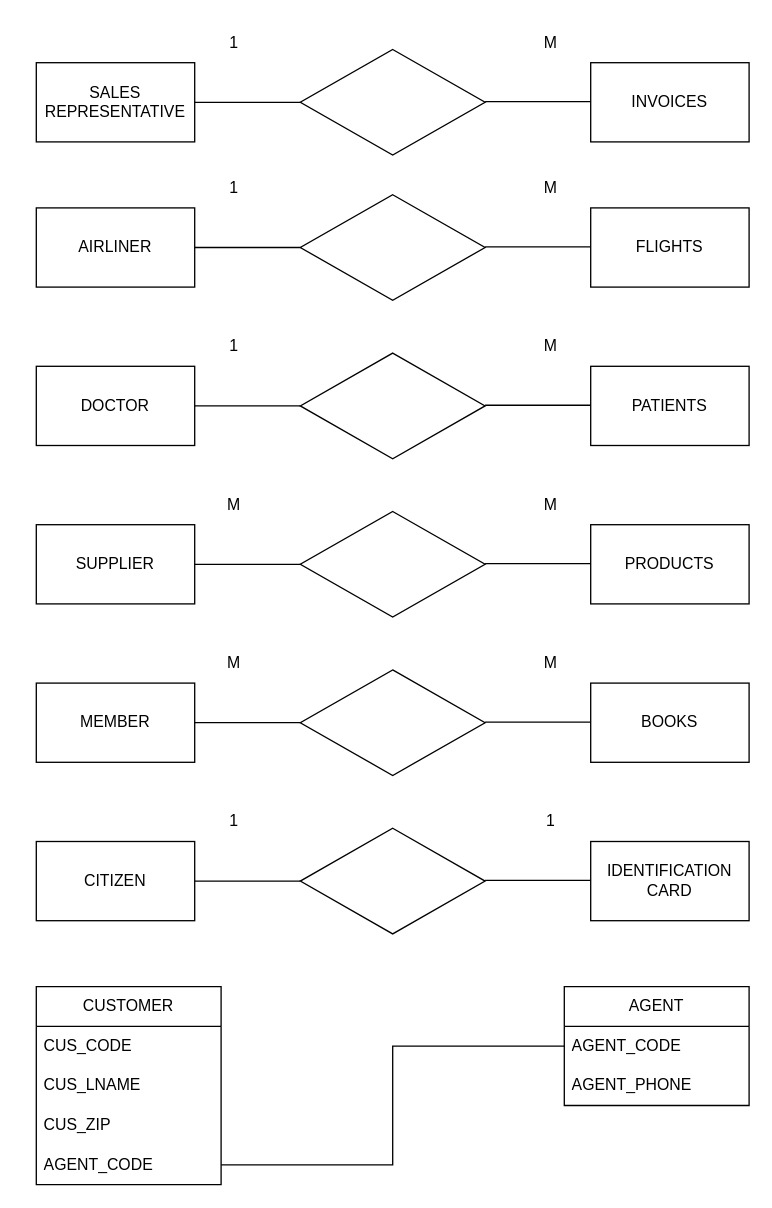
Some shapes in this 772 by 1208 pixel diagram are drawn without their labels. Each missing label, with the centre of its shape:
borrows: point (392, 722)
flies: point (392, 246)
own: point (392, 880)
supplies: point (392, 563)
treats: point (392, 405)
writes: point (392, 101)
